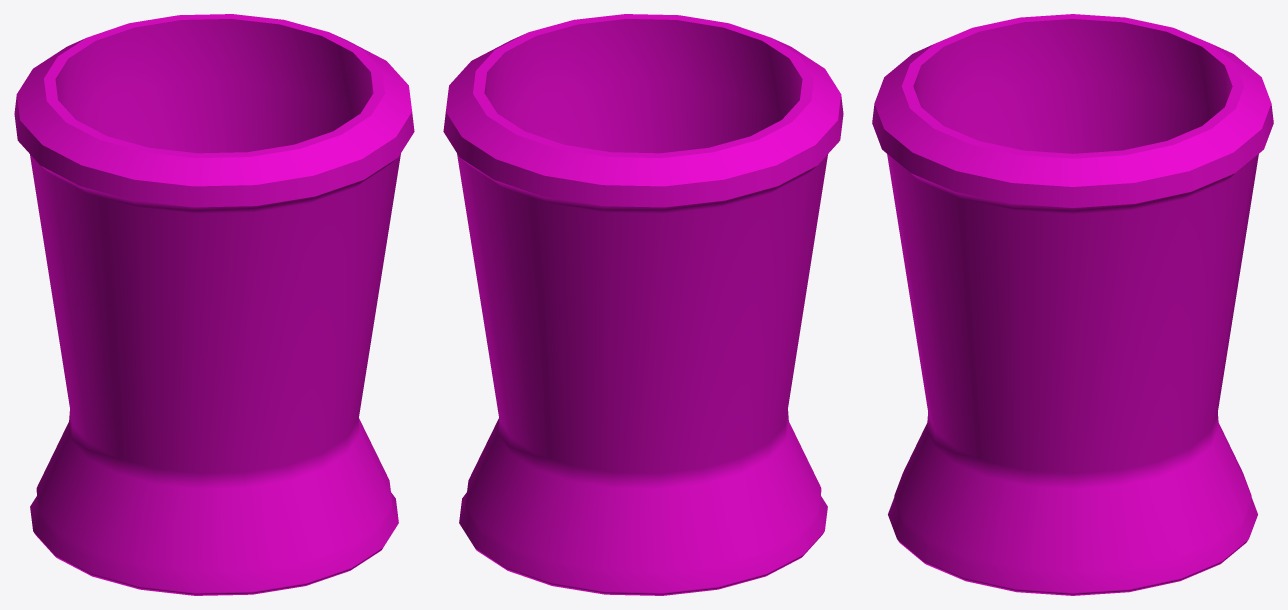
File: Tavern_Water_Cup_FBX.fbx
3 renders of one model, left to right at view 1: azimuth 30°, elevation 25°; view 2: azimuth 150°, elevation 25°; view 3: azimuth 270°, elevation 25°, orthographic.
Parts seen in each view (by area): view 1: Tavern_Water_cup; view 2: Tavern_Water_cup; view 3: Tavern_Water_cup.
Boxes of the visible parts, x1=… form: Tavern_Water_cup: x1=14, y1=14, x2=414, y2=595; Tavern_Water_cup: x1=443, y1=14, x2=843, y2=595; Tavern_Water_cup: x1=872, y1=14, x2=1273, y2=595.
Bounding box in the file's own units: 14.2 × 14.2 × 16.87.
